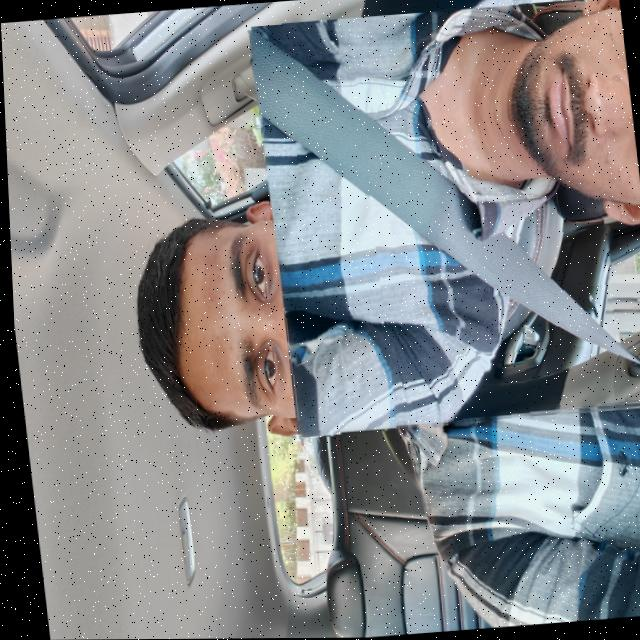seatbelt: (246, 0, 640, 437)
